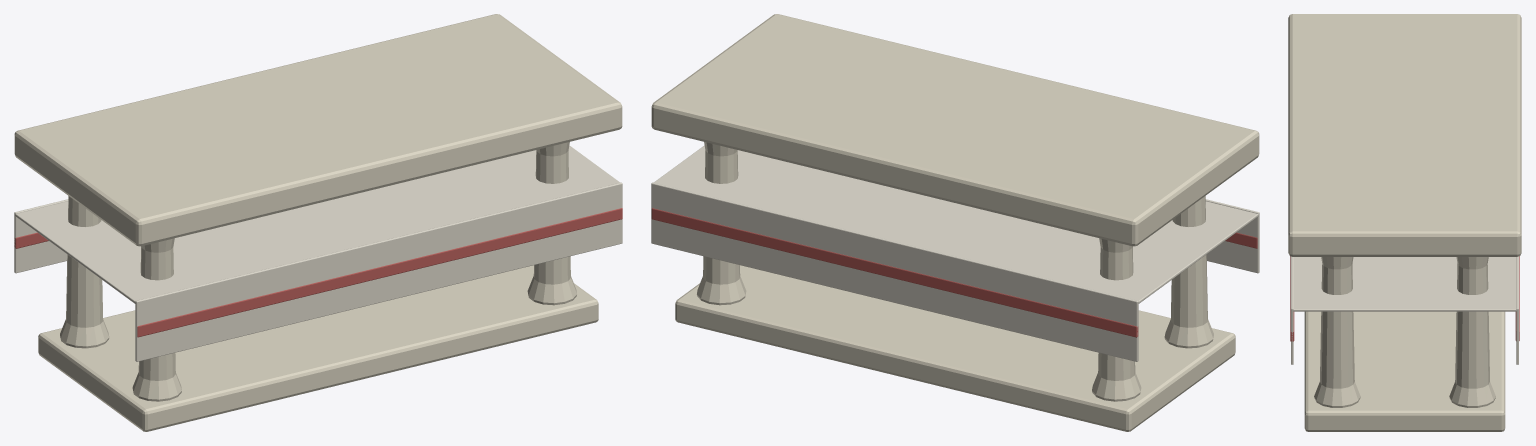
Rendered from altar_table.glb.
The picture shows the model from 3 angles, left to right: view 1: azimuth 30°, elevation 25°; view 2: azimuth 150°, elevation 25°; view 3: azimuth 270°, elevation 25°; orthographic projection. The views are drawn at different scales.
Visible parts, largest first — view 1: 214-altar-table/0, 214-altar-table/1, 214-altar-table/2; view 2: 214-altar-table/0, 214-altar-table/1, 214-altar-table/2; view 3: 214-altar-table/0, 214-altar-table/1, 214-altar-table/2.
Part boxes in pixels (x1=…): 214-altar-table/0: x1=14, y1=14, x2=622, y2=431; 214-altar-table/1: x1=14, y1=145, x2=622, y2=361; 214-altar-table/2: x1=14, y1=208, x2=622, y2=337; 214-altar-table/0: x1=651, y1=14, x2=1259, y2=431; 214-altar-table/1: x1=651, y1=145, x2=1259, y2=361; 214-altar-table/2: x1=651, y1=208, x2=1257, y2=337; 214-altar-table/0: x1=1288, y1=14, x2=1521, y2=431; 214-altar-table/1: x1=1291, y1=256, x2=1518, y2=364; 214-altar-table/2: x1=1290, y1=256, x2=1519, y2=341.
Size of the model in its own units: 2 by 0.8751 by 0.8929.
